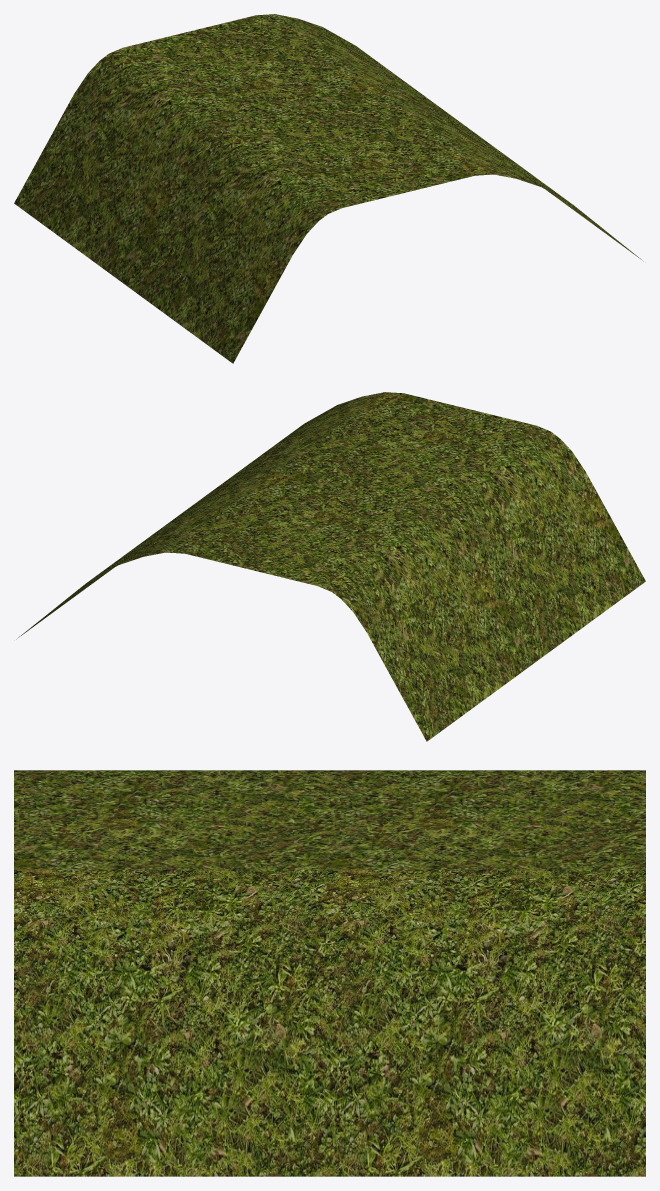
File: eSK_embankment_grass1.FBX
The picture shows the model from 3 angles, top to bottom: view 1: azimuth 30°, elevation 25°; view 2: azimuth 150°, elevation 25°; view 3: azimuth 270°, elevation 25°; orthographic projection. The views are drawn at different scales.
Parts seen in each view (by area): view 1: Object1; view 2: Object1; view 3: Object1.
Part boxes in pixels (x1,y1,x2,y2): Object1: (14, 14, 643, 363); Object1: (16, 392, 645, 741); Object1: (14, 770, 645, 1176).
Size of the model in its own units: 4.35 by 1.3 by 4.
Materials: 1 (1 with a texture image).
